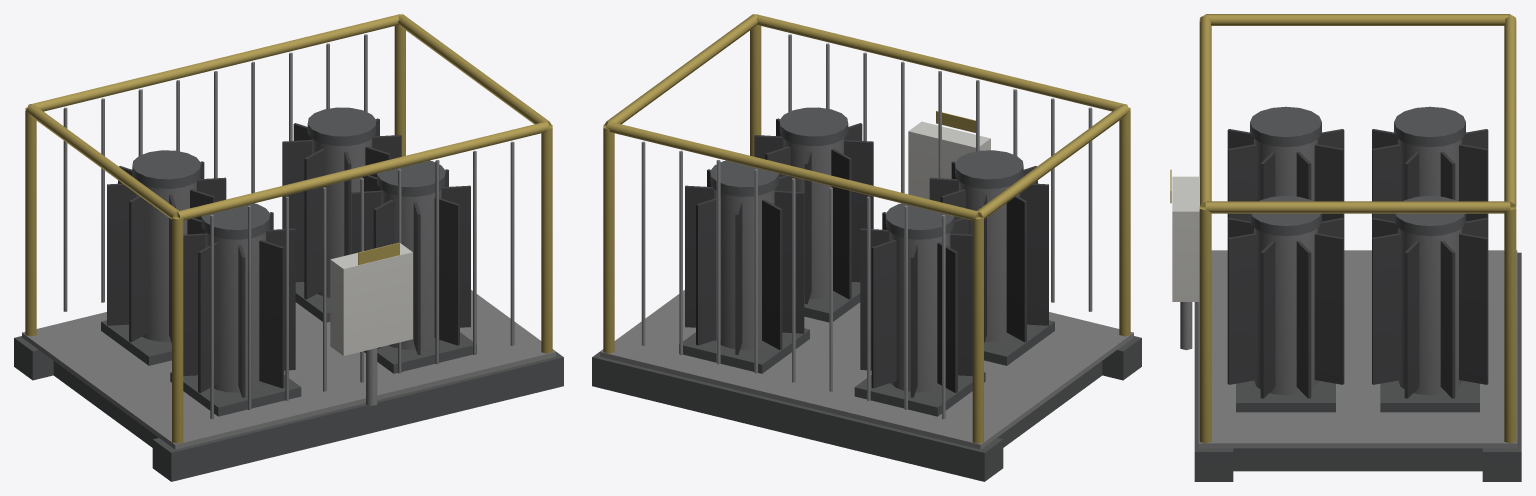
The model's file is isotope_skid.glb.
The picture shows the model from 3 angles, left to right: view 1: azimuth 30°, elevation 25°; view 2: azimuth 150°, elevation 25°; view 3: azimuth 270°, elevation 25°; orthographic projection. The views are drawn at different scales.
Visible parts, largest first — view 1: isotope_skid; view 2: isotope_skid; view 3: isotope_skid.
Part boxes in pixels (x1,y1,x2,y2): isotope_skid: (14,14,563,481); isotope_skid: (592,14,1141,481); isotope_skid: (1170,14,1521,481).
Bounding box in the file's own units: 1.7 × 1.09 × 1.27.
